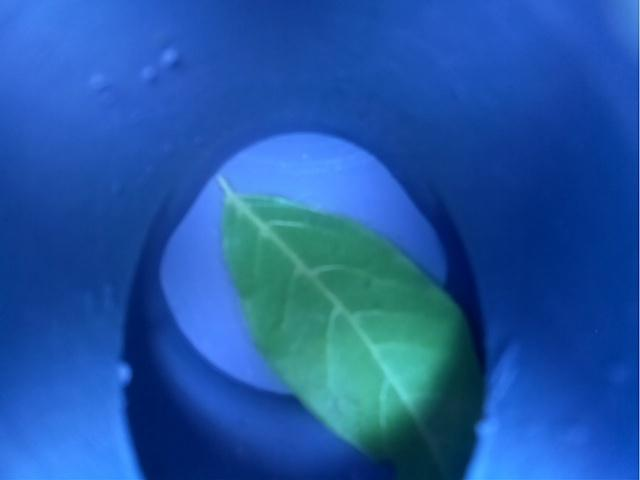feuille: (206, 171, 489, 479)
